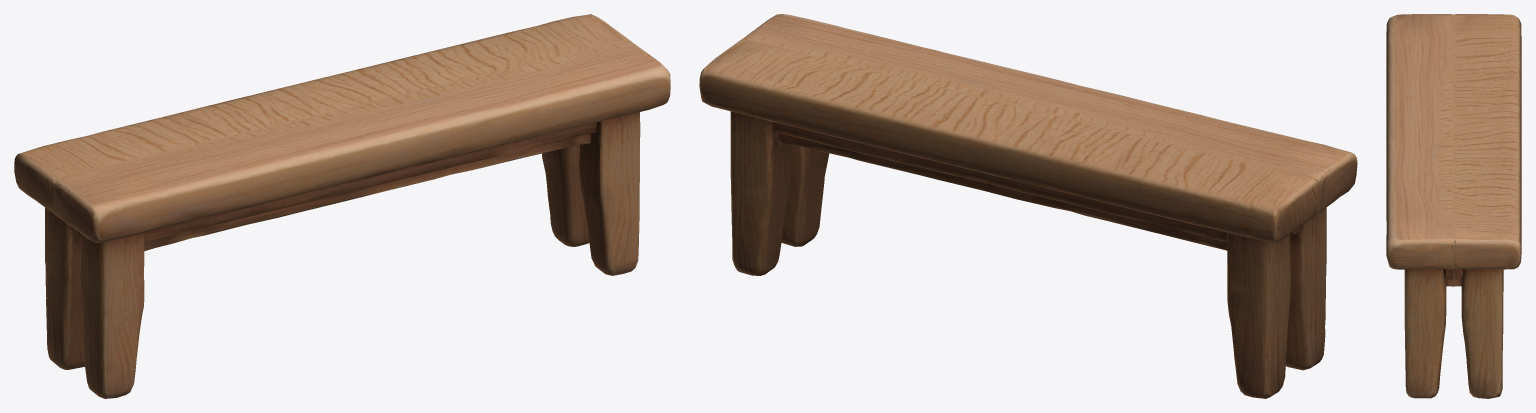
File: Table_Main.fbx
The picture shows the model from 3 angles, left to right: view 1: azimuth 30°, elevation 25°; view 2: azimuth 150°, elevation 25°; view 3: azimuth 270°, elevation 25°; orthographic projection. The views are drawn at different scales.
Parts seen in each view (by area): view 1: TABLE_Main; view 2: TABLE_Main; view 3: TABLE_Main.
Boxes of the visible parts, x1=… form: TABLE_Main: x1=14, y1=14, x2=670, y2=398; TABLE_Main: x1=699, y1=14, x2=1357, y2=398; TABLE_Main: x1=1386, y1=14, x2=1521, y2=398.
Bounding box in the file's own units: 1.8 × 0.6199 × 0.45.
1 material, 1 textured.
